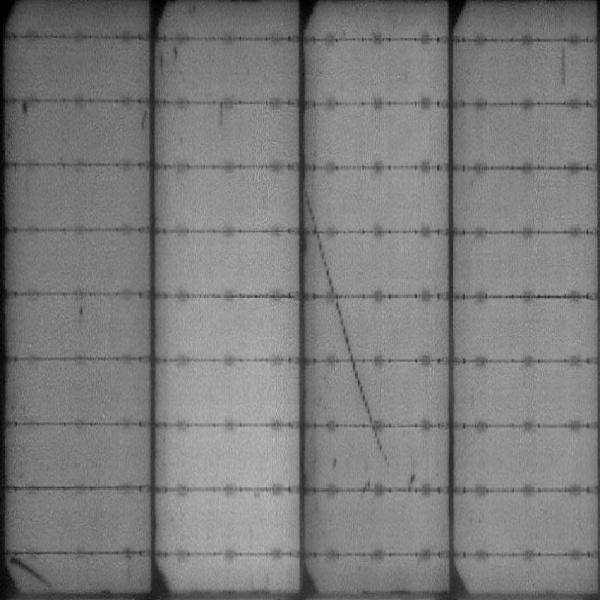scratch: (349, 363, 391, 465), (304, 193, 340, 294), (330, 297, 355, 357), (9, 559, 50, 587), (554, 42, 571, 93)
